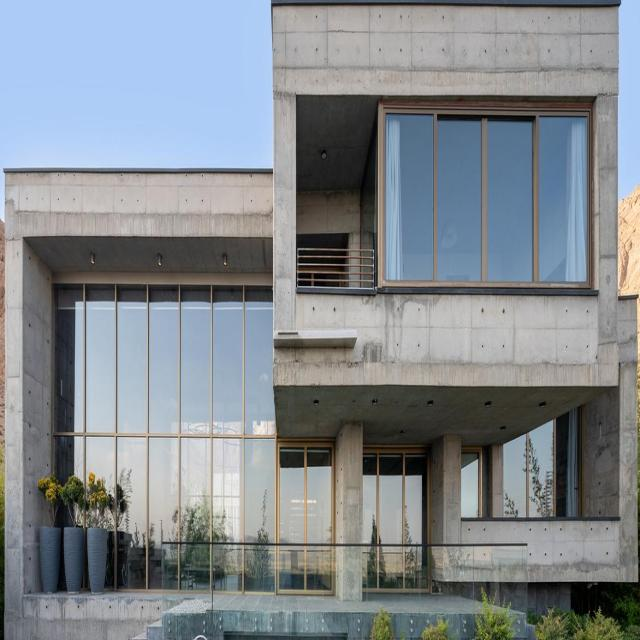Railing: (161, 542, 528, 618), (295, 246, 372, 288)
door: (275, 437, 337, 595), (362, 452, 432, 591)
wall: (2, 0, 639, 639)
windows: (47, 284, 336, 597), (379, 105, 591, 286)
